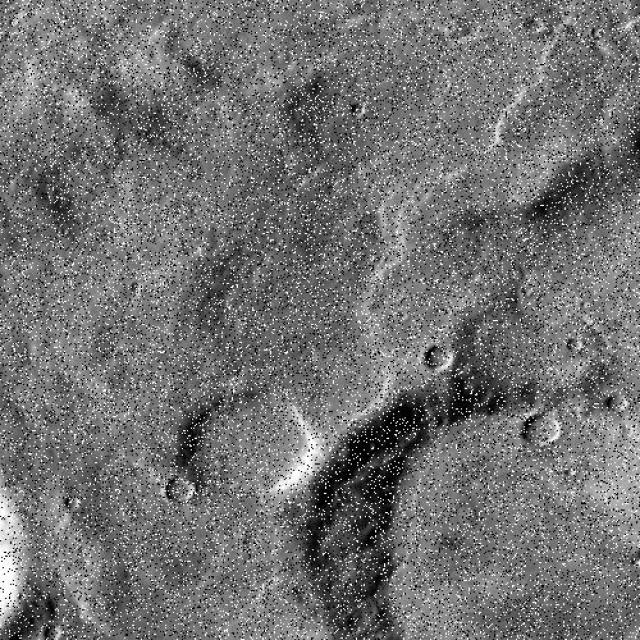crater: (0, 129, 379, 640), (43, 0, 638, 233), (353, 380, 640, 640), (0, 408, 276, 639), (408, 0, 640, 196), (0, 0, 187, 174), (0, 0, 110, 95), (0, 0, 103, 88)
